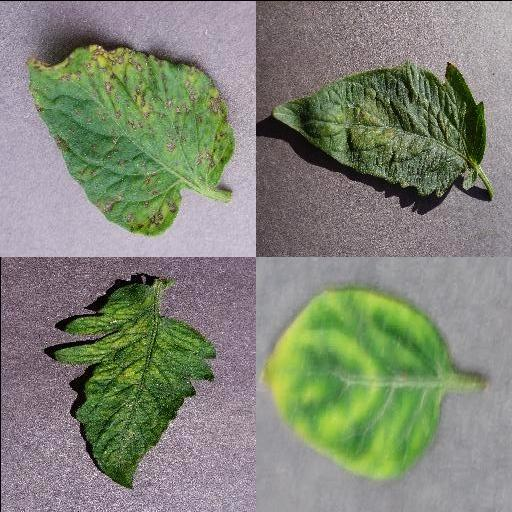Mosaic Virus: (52, 280, 218, 490)
Septoria: (23, 44, 235, 234)
Spider Mites: (270, 60, 486, 196)
Yellow Leaf Curl Virus: (265, 290, 451, 481)
